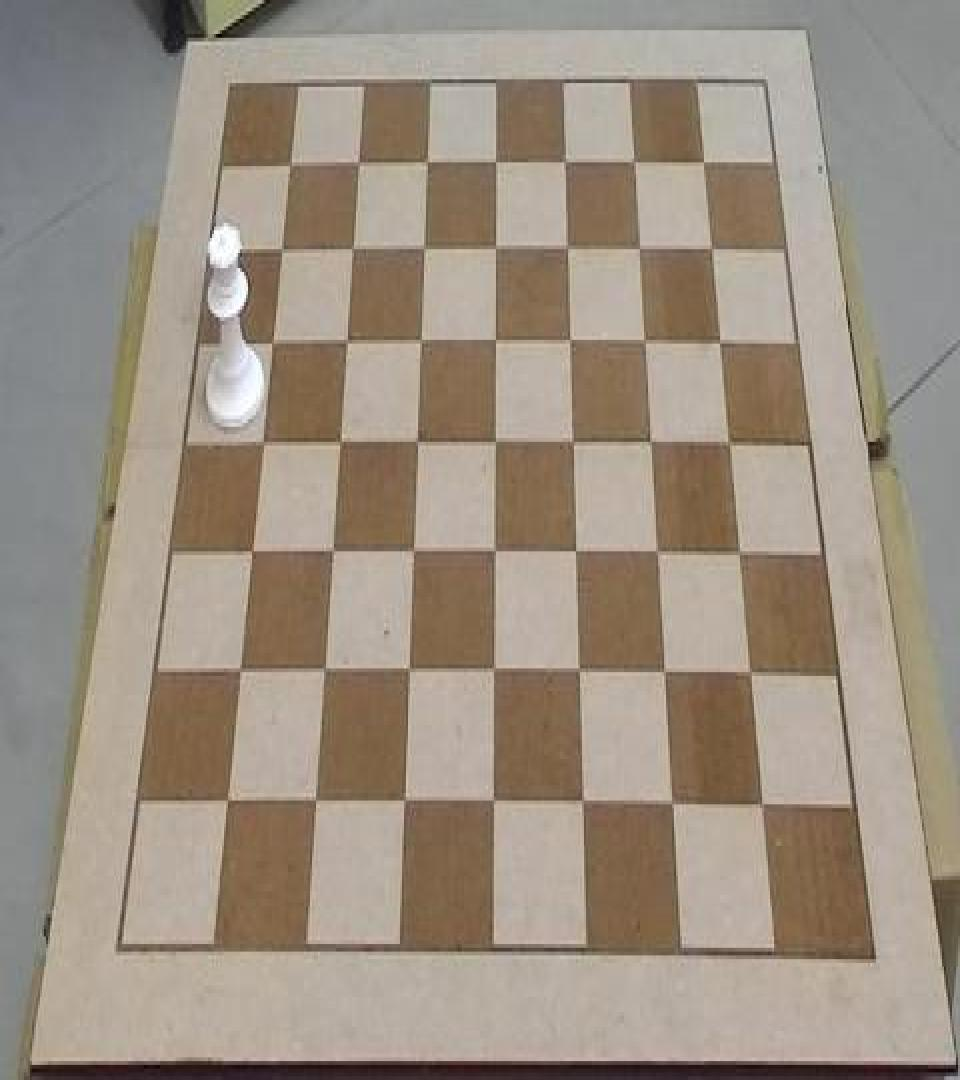xcorner: (693, 137, 713, 176), (623, 139, 643, 178), (554, 139, 574, 178), (484, 139, 504, 178), (416, 142, 436, 180), (347, 142, 367, 180), (279, 142, 299, 180), (701, 224, 721, 262), (628, 224, 648, 262), (556, 226, 576, 264), (484, 226, 504, 264), (413, 226, 433, 264), (341, 226, 361, 264), (270, 228, 290, 266), (710, 319, 730, 357), (634, 319, 654, 357), (559, 319, 579, 357), (484, 319, 504, 357), (409, 319, 429, 357), (335, 319, 355, 357), (261, 321, 281, 359), (719, 419, 739, 457), (640, 419, 660, 457), (562, 419, 582, 457), (484, 419, 504, 457), (406, 421, 426, 459), (329, 421, 349, 459), (251, 421, 271, 459), (730, 530, 750, 568), (647, 530, 667, 568), (565, 530, 585, 568), (484, 530, 504, 568), (402, 530, 422, 568), (321, 530, 341, 568), (241, 530, 261, 568), (741, 652, 761, 690), (655, 652, 675, 690), (569, 652, 589, 690), (483, 650, 503, 688), (398, 650, 418, 688), (313, 650, 333, 688), (229, 650, 249, 688), (754, 786, 774, 824), (663, 784, 683, 822), (573, 784, 593, 822), (483, 784, 503, 822), (394, 782, 414, 820), (305, 782, 325, 820), (216, 780, 236, 818)
